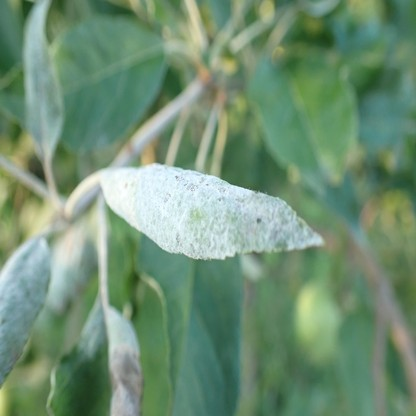powdery_mildew: (99, 160, 326, 259), (0, 240, 51, 383), (104, 301, 145, 416)
